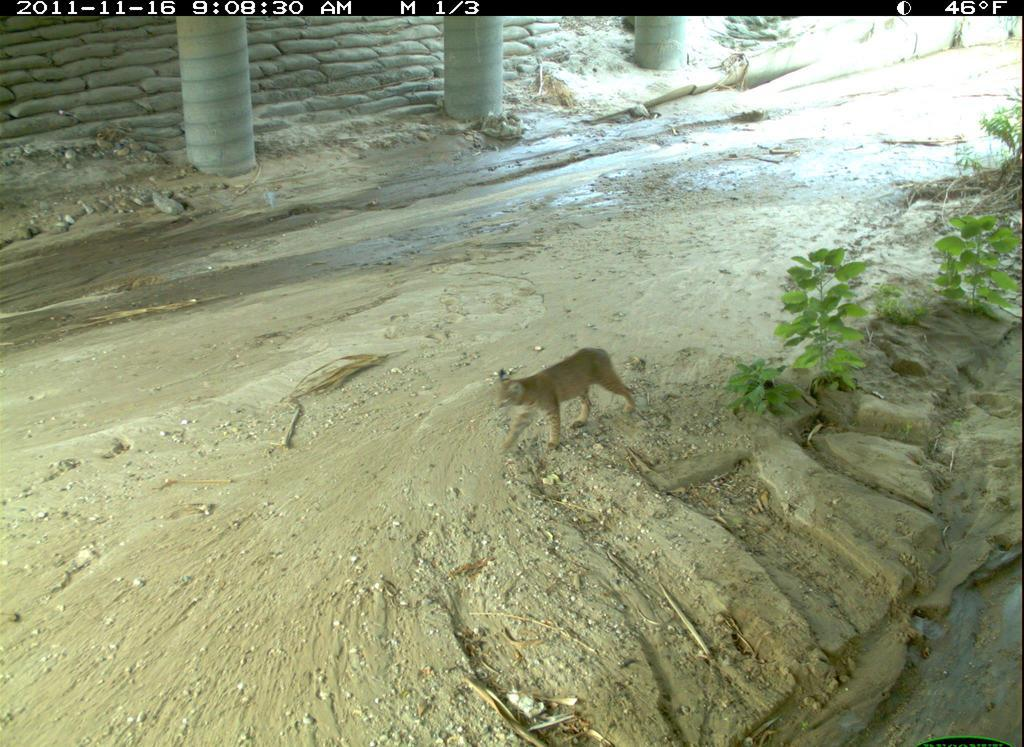bobcat: (489, 344, 646, 460)
